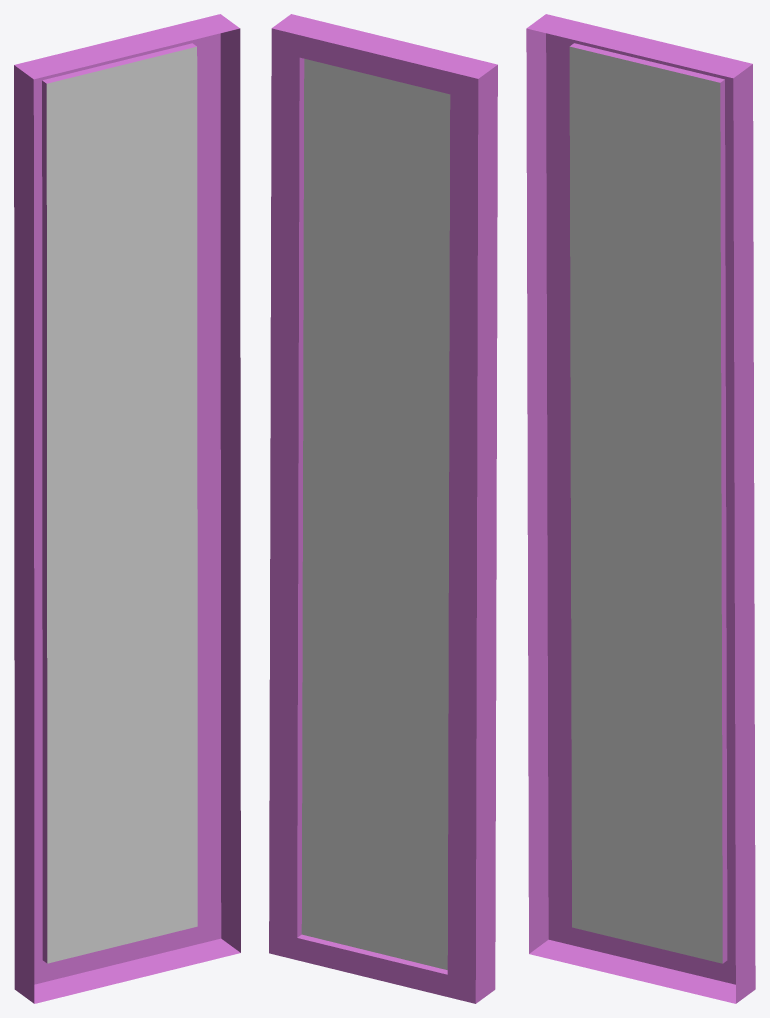
The model's file is WallPlanterHolder_mesh 2.fbx.
3 views of the same model, side by side, from view 1: azimuth 30°, elevation 25°; view 2: azimuth 150°, elevation 25°; view 3: azimuth 330°, elevation 25° (orthographic).
Parts seen in each view (by area): view 1: WallPlantHolder_mesh; view 2: WallPlantHolder_mesh; view 3: WallPlantHolder_mesh.
Part boxes in pixels (box(x1,y1,x2,y2)): WallPlantHolder_mesh: box(14, 14, 240, 1003); WallPlantHolder_mesh: box(269, 14, 497, 1003); WallPlantHolder_mesh: box(526, 14, 755, 1003).
Size of the model in its own units: 668 by 2839 by 116.
